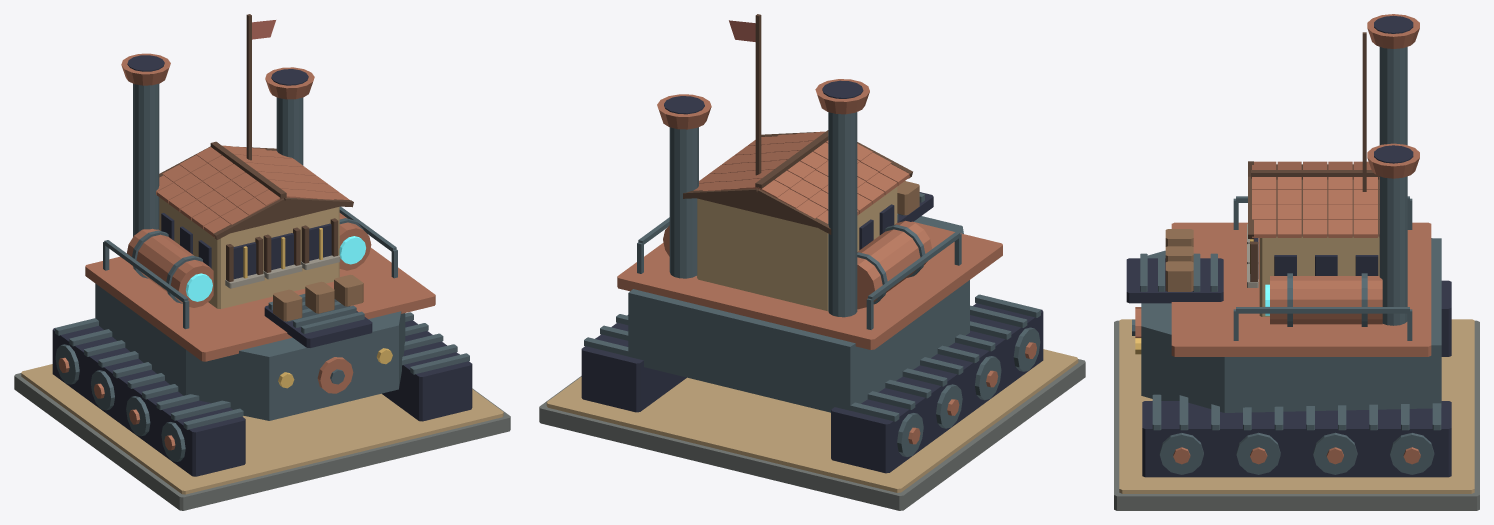
The model's file is ENV_Landmark_sandship_LOD0.glb.
3 renders of one model, left to right at view 1: azimuth 30°, elevation 25°; view 2: azimuth 150°, elevation 25°; view 3: azimuth 270°, elevation 25°, orthographic. The views are drawn at different scales.
Visible parts, largest first — view 1: ENV_Landmark_sandship_LOD0_s3-6_iron, ENV_Landmark_sandship_LOD0_s3-6_copper, ENV_Landmark_sandship_LOD0_s3-6_sand, ENV_Landmark_sandship_LOD0_s3-6_ink, ENV_Landmark_sandship_LOD0_s3-6_stoneDark, ENV_Landmark_sandship_LOD0_s5-6_iron, ENV_Landmark_sandship_LOD0_s3-6_woodDark, ENV_Landmark_sandship_LOD0_s4-6_copper, ENV_Landmark_sandship_LOD0_s6-6_woodLight, ENV_Landmark_sandship_LOD0_s4-6_iron, ENV_Landmark_sandship_LOD0_s5-6_copper, ENV_Landmark_sandship_LOD0_s4-6_cyan (+4 smaller); view 2: ENV_Landmark_sandship_LOD0_s3-6_iron, ENV_Landmark_sandship_LOD0_s3-6_sand, ENV_Landmark_sandship_LOD0_s3-6_copper, ENV_Landmark_sandship_LOD0_s3-6_ink, ENV_Landmark_sandship_LOD0_s3-6_stoneDark, ENV_Landmark_sandship_LOD0_s5-6_iron, ENV_Landmark_sandship_LOD0_s3-6_woodDark, ENV_Landmark_sandship_LOD0_s4-6_copper, ENV_Landmark_sandship_LOD0_s4-6_iron, ENV_Landmark_sandship_LOD0_s5-6_copper, ENV_Landmark_sandship_LOD0_s5-6_ink, ENV_Landmark_sandship_LOD0_s6-6_woodDark (+1 smaller); view 3: ENV_Landmark_sandship_LOD0_s3-6_iron, ENV_Landmark_sandship_LOD0_s3-6_copper, ENV_Landmark_sandship_LOD0_s3-6_ink, ENV_Landmark_sandship_LOD0_s3-6_sand, ENV_Landmark_sandship_LOD0_s3-6_stoneDark, ENV_Landmark_sandship_LOD0_s5-6_iron, ENV_Landmark_sandship_LOD0_s4-6_copper, ENV_Landmark_sandship_LOD0_s4-6_iron, ENV_Landmark_sandship_LOD0_s3-6_woodDark, ENV_Landmark_sandship_LOD0_s5-6_copper, ENV_Landmark_sandship_LOD0_s6-6_woodLight, ENV_Landmark_sandship_LOD0_s5-6_ink (+1 smaller).
Part boxes in pixels (bbox=[...]): ENV_Landmark_sandship_LOD0_s3-6_iron: bbox=[55, 283, 469, 461]; ENV_Landmark_sandship_LOD0_s3-6_copper: bbox=[58, 145, 435, 450]; ENV_Landmark_sandship_LOD0_s3-6_sand: bbox=[21, 197, 503, 494]; ENV_Landmark_sandship_LOD0_s3-6_ink: bbox=[52, 213, 472, 476]; ENV_Landmark_sandship_LOD0_s3-6_stoneDark: bbox=[14, 373, 510, 510]; ENV_Landmark_sandship_LOD0_s5-6_iron: bbox=[133, 83, 303, 236]; ENV_Landmark_sandship_LOD0_s3-6_woodDark: bbox=[156, 141, 353, 282]; ENV_Landmark_sandship_LOD0_s4-6_copper: bbox=[127, 213, 371, 307]; ENV_Landmark_sandship_LOD0_s6-6_woodLight: bbox=[273, 274, 363, 321]; ENV_Landmark_sandship_LOD0_s4-6_iron: bbox=[103, 206, 397, 329]; ENV_Landmark_sandship_LOD0_s5-6_copper: bbox=[121, 53, 314, 99]; ENV_Landmark_sandship_LOD0_s4-6_cyan: bbox=[186, 236, 365, 301]; ENV_Landmark_sandship_LOD0_s3-6_iron: bbox=[584, 193, 1040, 456]; ENV_Landmark_sandship_LOD0_s3-6_sand: bbox=[546, 187, 1078, 492]; ENV_Landmark_sandship_LOD0_s3-6_copper: bbox=[617, 131, 1036, 444]; ENV_Landmark_sandship_LOD0_s3-6_ink: bbox=[581, 192, 1043, 473]; ENV_Landmark_sandship_LOD0_s3-6_stoneDark: bbox=[539, 359, 1085, 510]; ENV_Landmark_sandship_LOD0_s5-6_iron: bbox=[669, 112, 857, 317]; ENV_Landmark_sandship_LOD0_s3-6_woodDark: bbox=[683, 130, 912, 234]; ENV_Landmark_sandship_LOD0_s4-6_copper: bbox=[663, 220, 931, 309]; ENV_Landmark_sandship_LOD0_s4-6_iron: bbox=[637, 217, 961, 329]; ENV_Landmark_sandship_LOD0_s5-6_copper: bbox=[657, 79, 869, 129]; ENV_Landmark_sandship_LOD0_s5-6_ink: bbox=[664, 80, 863, 114]; ENV_Landmark_sandship_LOD0_s6-6_woodDark: bbox=[755, 14, 761, 175]; ENV_Landmark_sandship_LOD0_s3-6_iron: bbox=[1132, 238, 1441, 474]; ENV_Landmark_sandship_LOD0_s3-6_copper: bbox=[1135, 161, 1431, 464]; ENV_Landmark_sandship_LOD0_s3-6_ink: bbox=[1126, 238, 1451, 477]; ENV_Landmark_sandship_LOD0_s3-6_sand: bbox=[1119, 236, 1474, 493]; ENV_Landmark_sandship_LOD0_s3-6_stoneDark: bbox=[1114, 320, 1479, 510]; ENV_Landmark_sandship_LOD0_s5-6_iron: bbox=[1379, 47, 1407, 325]; ENV_Landmark_sandship_LOD0_s4-6_copper: bbox=[1270, 276, 1382, 324]; ENV_Landmark_sandship_LOD0_s4-6_iron: bbox=[1233, 196, 1412, 340]; ENV_Landmark_sandship_LOD0_s3-6_woodDark: bbox=[1248, 161, 1379, 281]; ENV_Landmark_sandship_LOD0_s5-6_copper: bbox=[1367, 14, 1419, 178]; ENV_Landmark_sandship_LOD0_s6-6_woodLight: bbox=[1165, 229, 1193, 291]; ENV_Landmark_sandship_LOD0_s5-6_ink: bbox=[1374, 15, 1413, 163].
Bounding box in the file's own units: 9.2 × 9.76 × 8.1.
